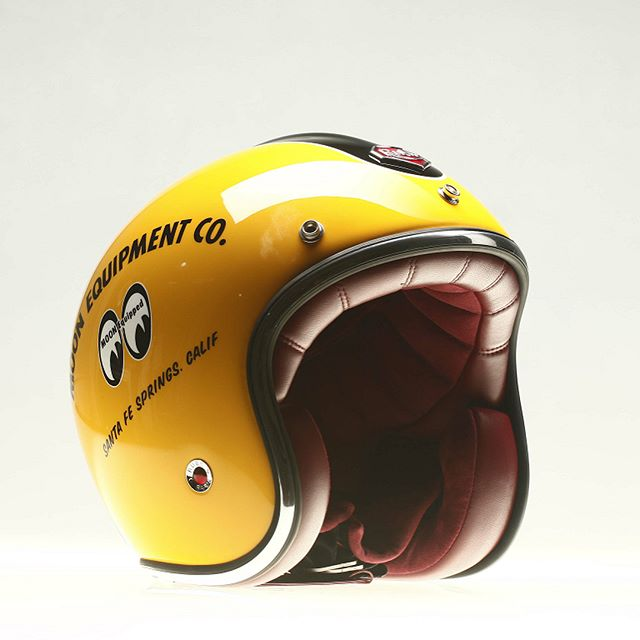with_helmet: (66, 128, 538, 581)
